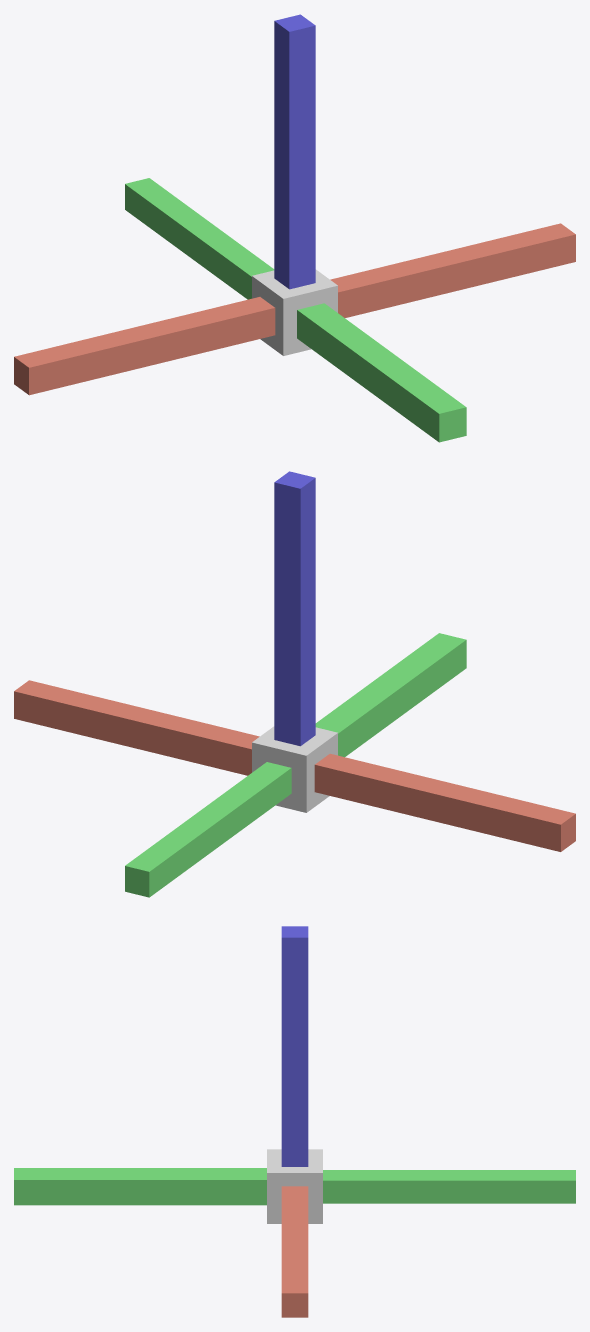
Rendered from gizmo.gltf.
The picture shows the model from 3 angles, top to bottom: view 1: azimuth 30°, elevation 25°; view 2: azimuth 150°, elevation 25°; view 3: azimuth 270°, elevation 25°; orthographic projection. The views are drawn at different scales.
Visible parts, largest first — view 1: Plane; view 2: Plane; view 3: Plane.
Part boxes in pixels (left/top/right/bottom): Plane: left=14, top=14, right=575, bottom=442; Plane: left=14, top=471, right=575, bottom=897; Plane: left=14, top=926, right=575, bottom=1317.
Size of the model in its own units: 0.2 by 0.11 by 0.2.
